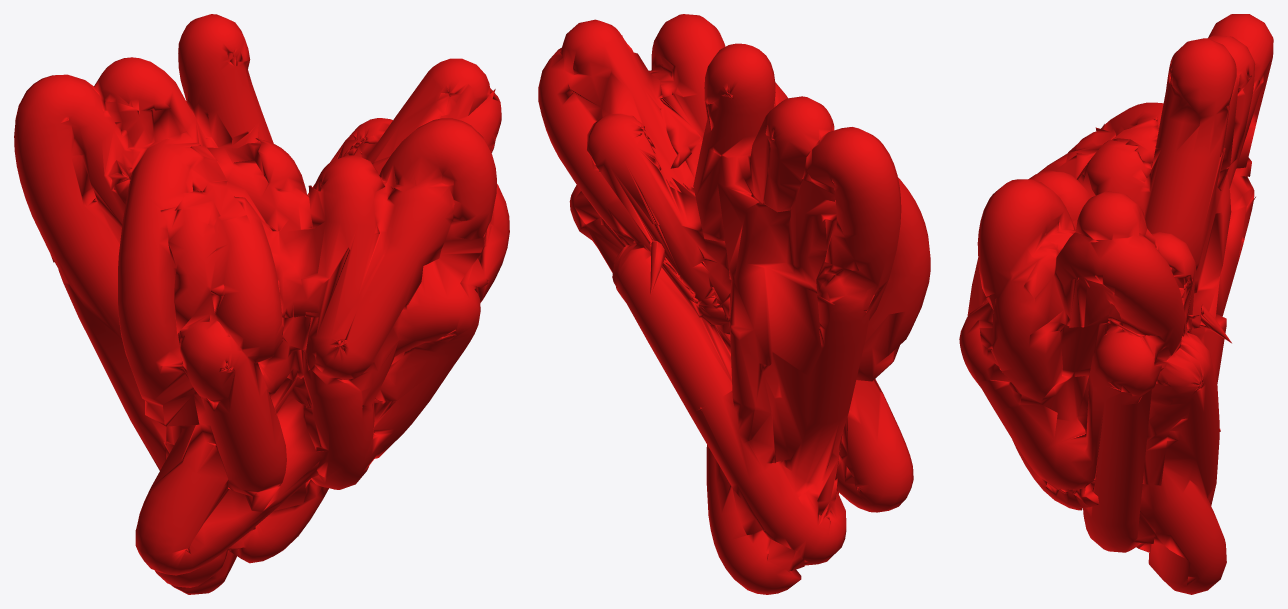
The model's file is asset.glb.
3 views of the same model, side by side, from view 1: azimuth 30°, elevation 25°; view 2: azimuth 150°, elevation 25°; view 3: azimuth 270°, elevation 25° (orthographic). The views are drawn at different scales.
Parts seen in each view (by area): view 1: obj_0; view 2: obj_0; view 3: obj_0.
Boxes of the visible parts, x1,y1,x2,y2 form: obj_0: (14, 14, 509, 594); obj_0: (538, 14, 930, 594); obj_0: (959, 14, 1273, 594).
Bounding box in the file's own units: 51.07 × 65.51 × 33.37.
